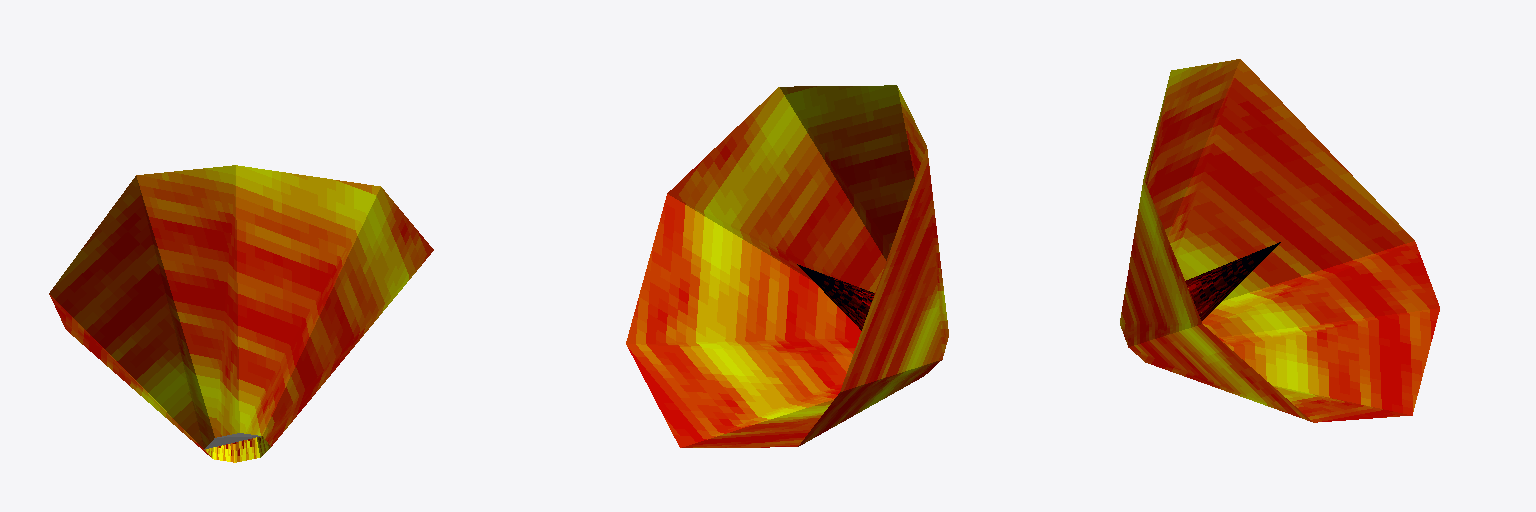
The picture shows the model from 3 angles: view 1: azimuth 30°, elevation 25°; view 2: azimuth 150°, elevation 25°; view 3: azimuth 270°, elevation 25°; orthographic projection.
Parts seen in each view (by area): view 1: turbo7; view 2: turbo7; view 3: turbo7.
Part boxes in pixels (bbox=[...]): turbo7: bbox=[49, 165, 433, 462]; turbo7: bbox=[626, 85, 948, 447]; turbo7: bbox=[1120, 59, 1439, 422].
Bounding box in the file's own units: 1.25 × 1.27 × 1.24.
Materials: 9 (9 with a texture image).